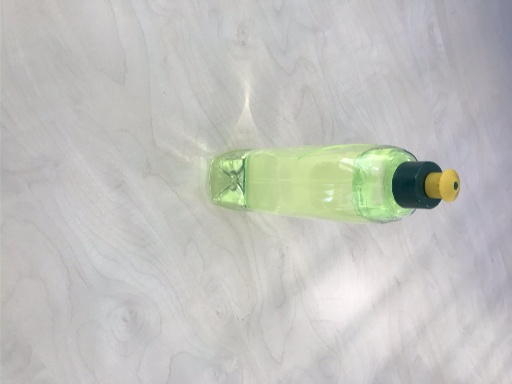Sapone: (205, 142, 463, 224)
